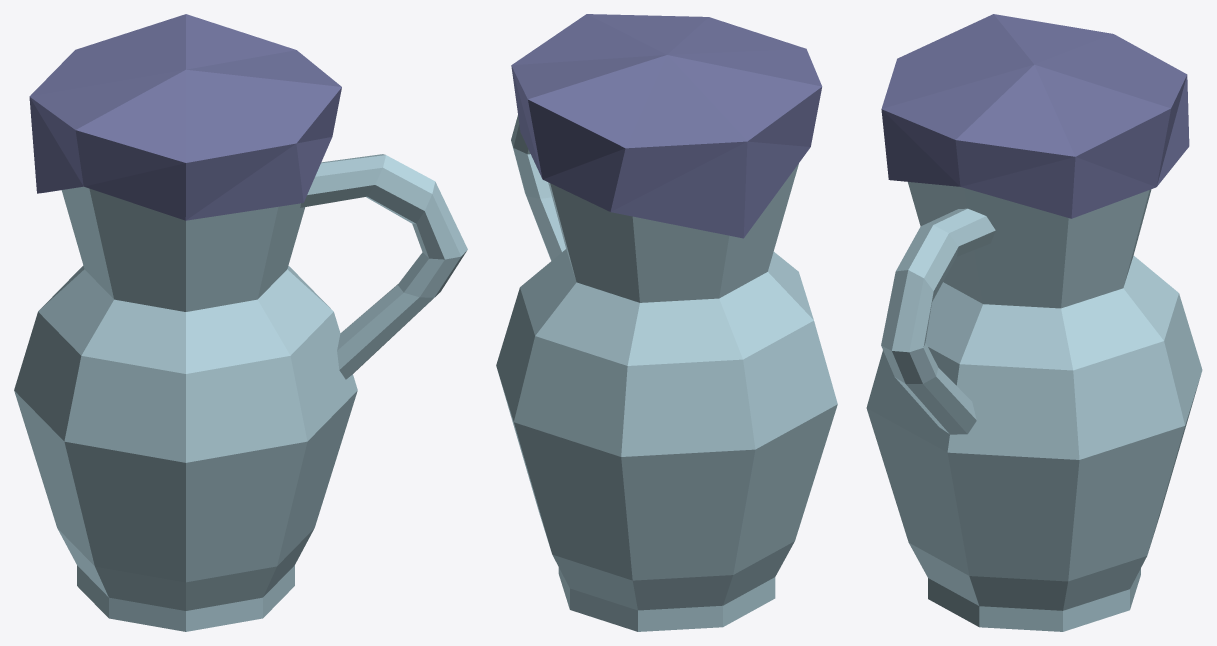
Rendered from Jug.fbx.
The picture shows the model from 3 angles, left to right: view 1: azimuth 30°, elevation 25°; view 2: azimuth 150°, elevation 25°; view 3: azimuth 270°, elevation 25°; orthographic projection. The views are drawn at different scales.
Parts seen in each view (by area): view 1: Jug; view 2: Jug; view 3: Jug.
Part boxes in pixels (box(x1,y1,x2,y2)): Jug: box(14, 14, 467, 631); Jug: box(496, 14, 837, 631); Jug: box(866, 14, 1202, 631).
Bounding box in the file's own units: 17.97 × 14.46 × 24.81.
